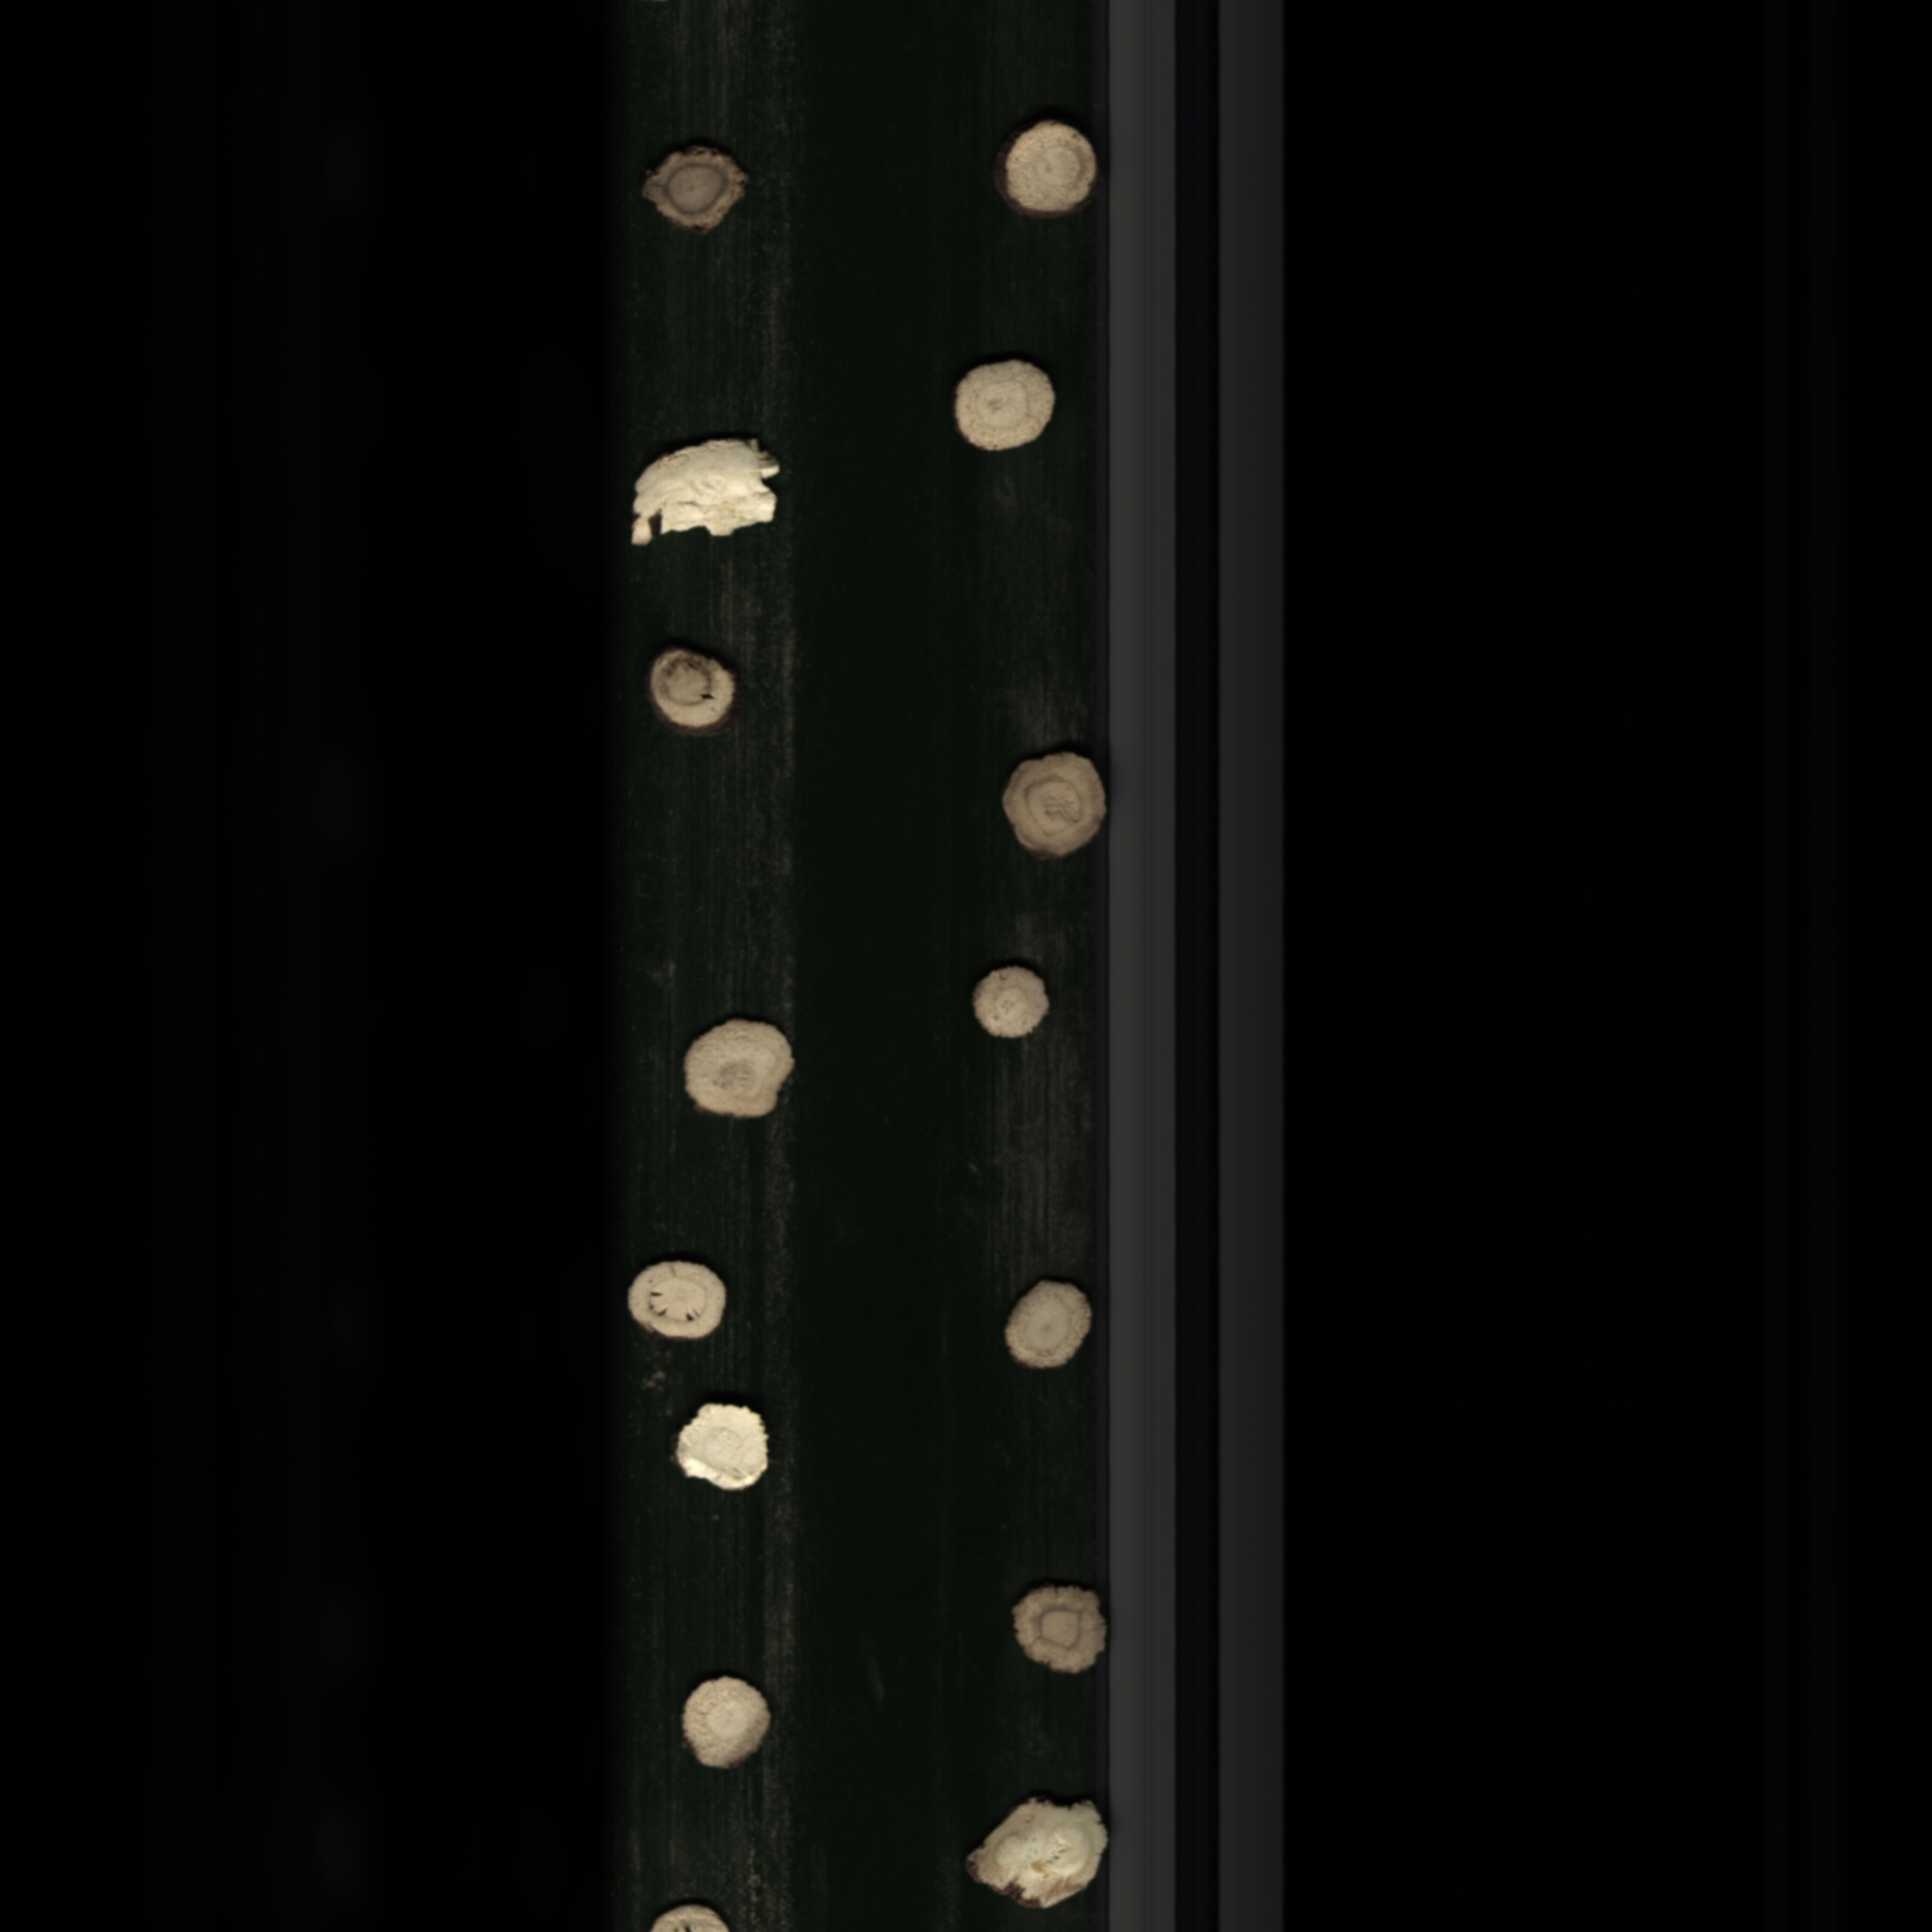debris: (626, 439, 798, 559), (962, 1787, 1116, 1909), (663, 1392, 794, 1499)
hole: (623, 1260, 740, 1346)
moldy: (996, 740, 1111, 869), (637, 649, 755, 743), (1005, 1582, 1109, 1679), (642, 143, 750, 237)
